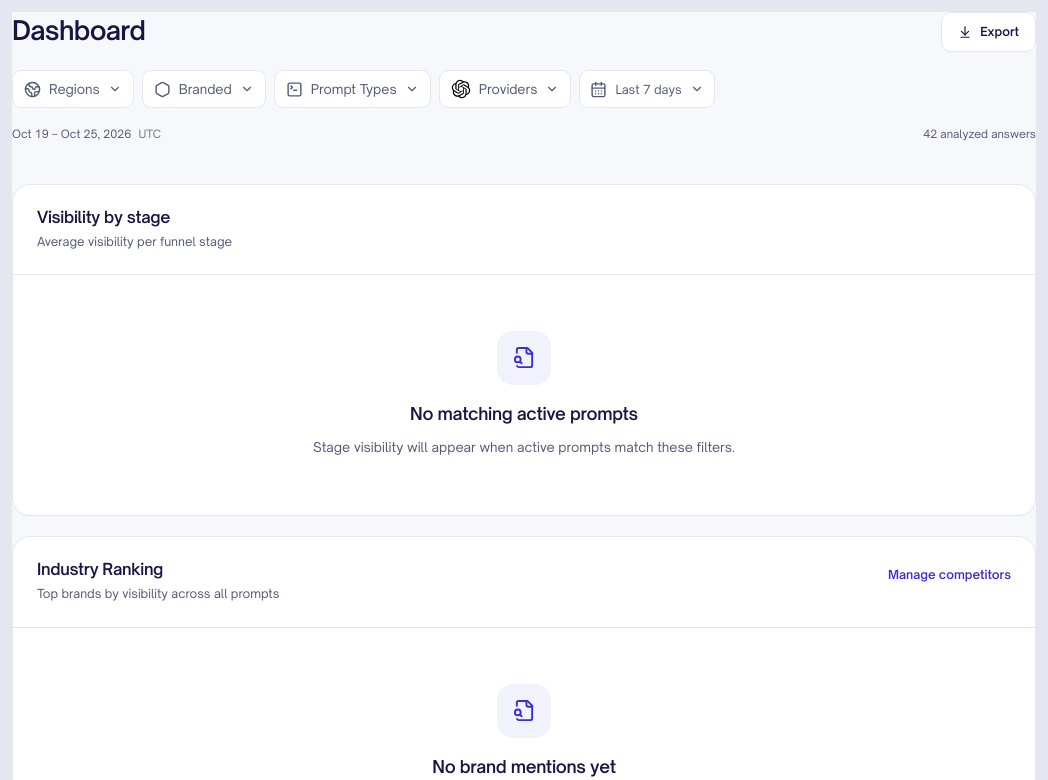
Scenario: dashboard discovery reporting › keeps non-branded discovery as an explicit filter choice
Click the button with aria-label "Branded".
click(204, 89)  # box x1=142 y1=70 x2=266 y2=108
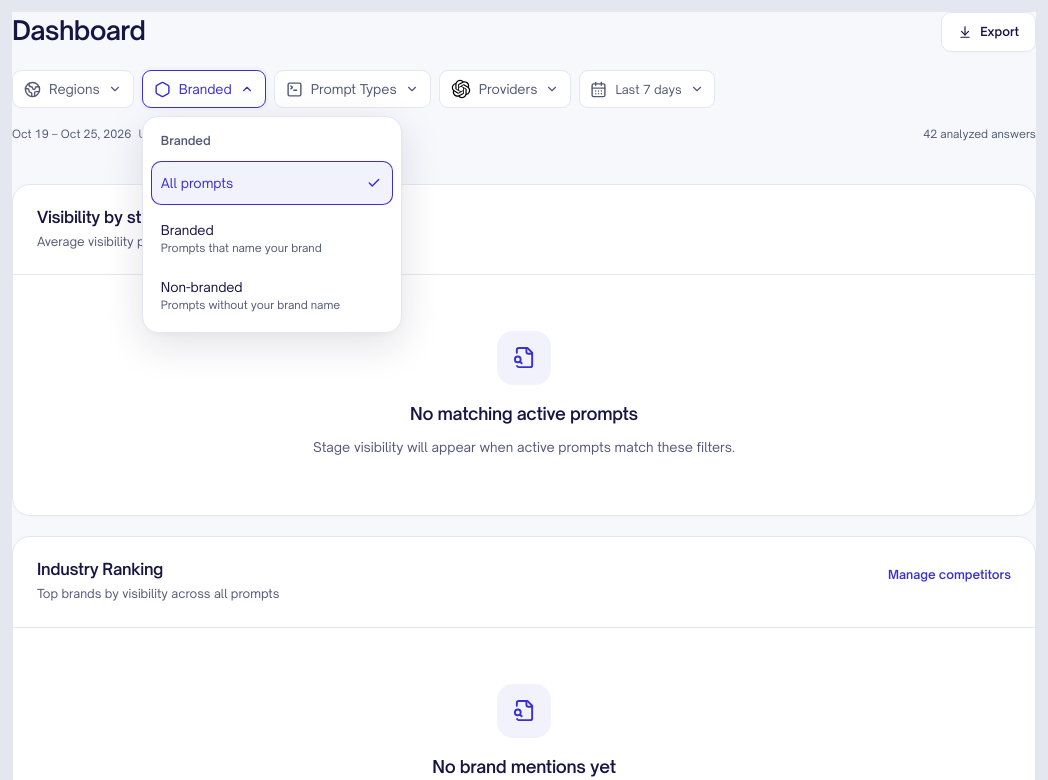
Click the option with aria-label "Non-branded".
click(250, 296)  # box x1=161 y1=279 x2=340 y2=312
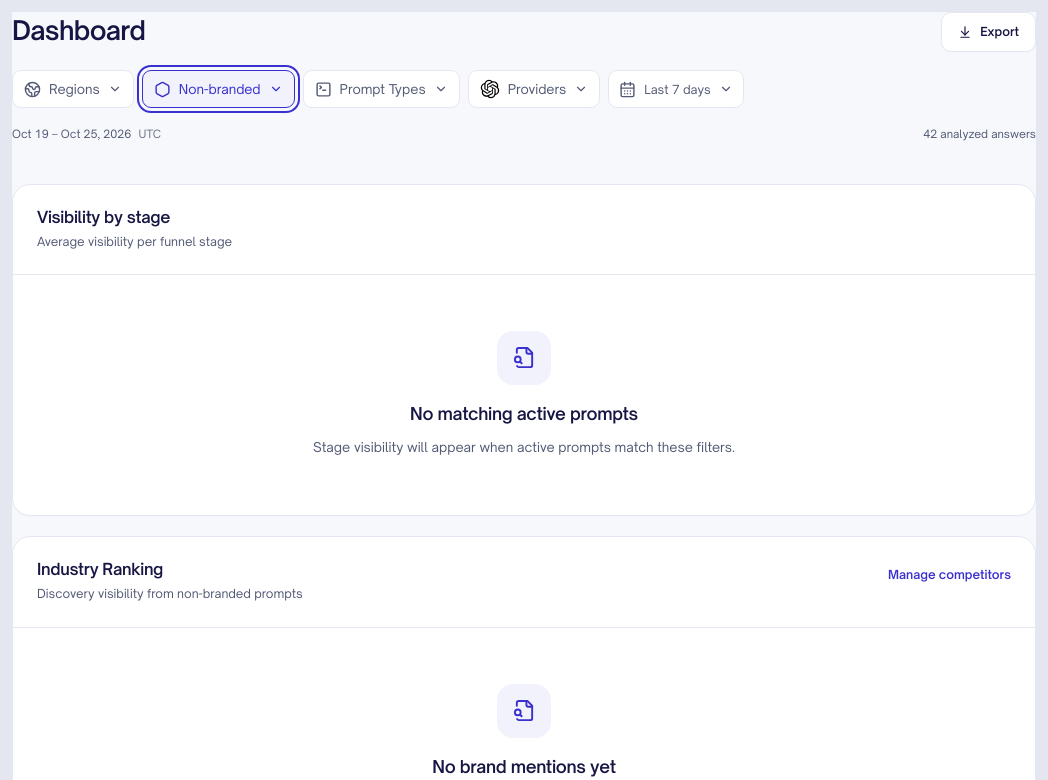
Now the text with class "card-description" reads "Discovery visibility from non-branded prompts", box x1=37 y1=586 x2=303 y2=601
